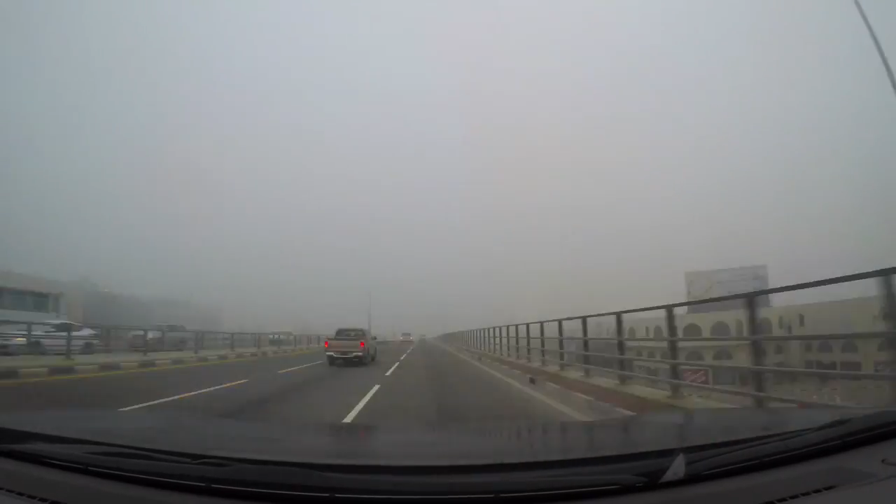car: (1, 319, 102, 355), (323, 326, 379, 366), (125, 322, 189, 352), (266, 328, 301, 347), (398, 331, 414, 344)
